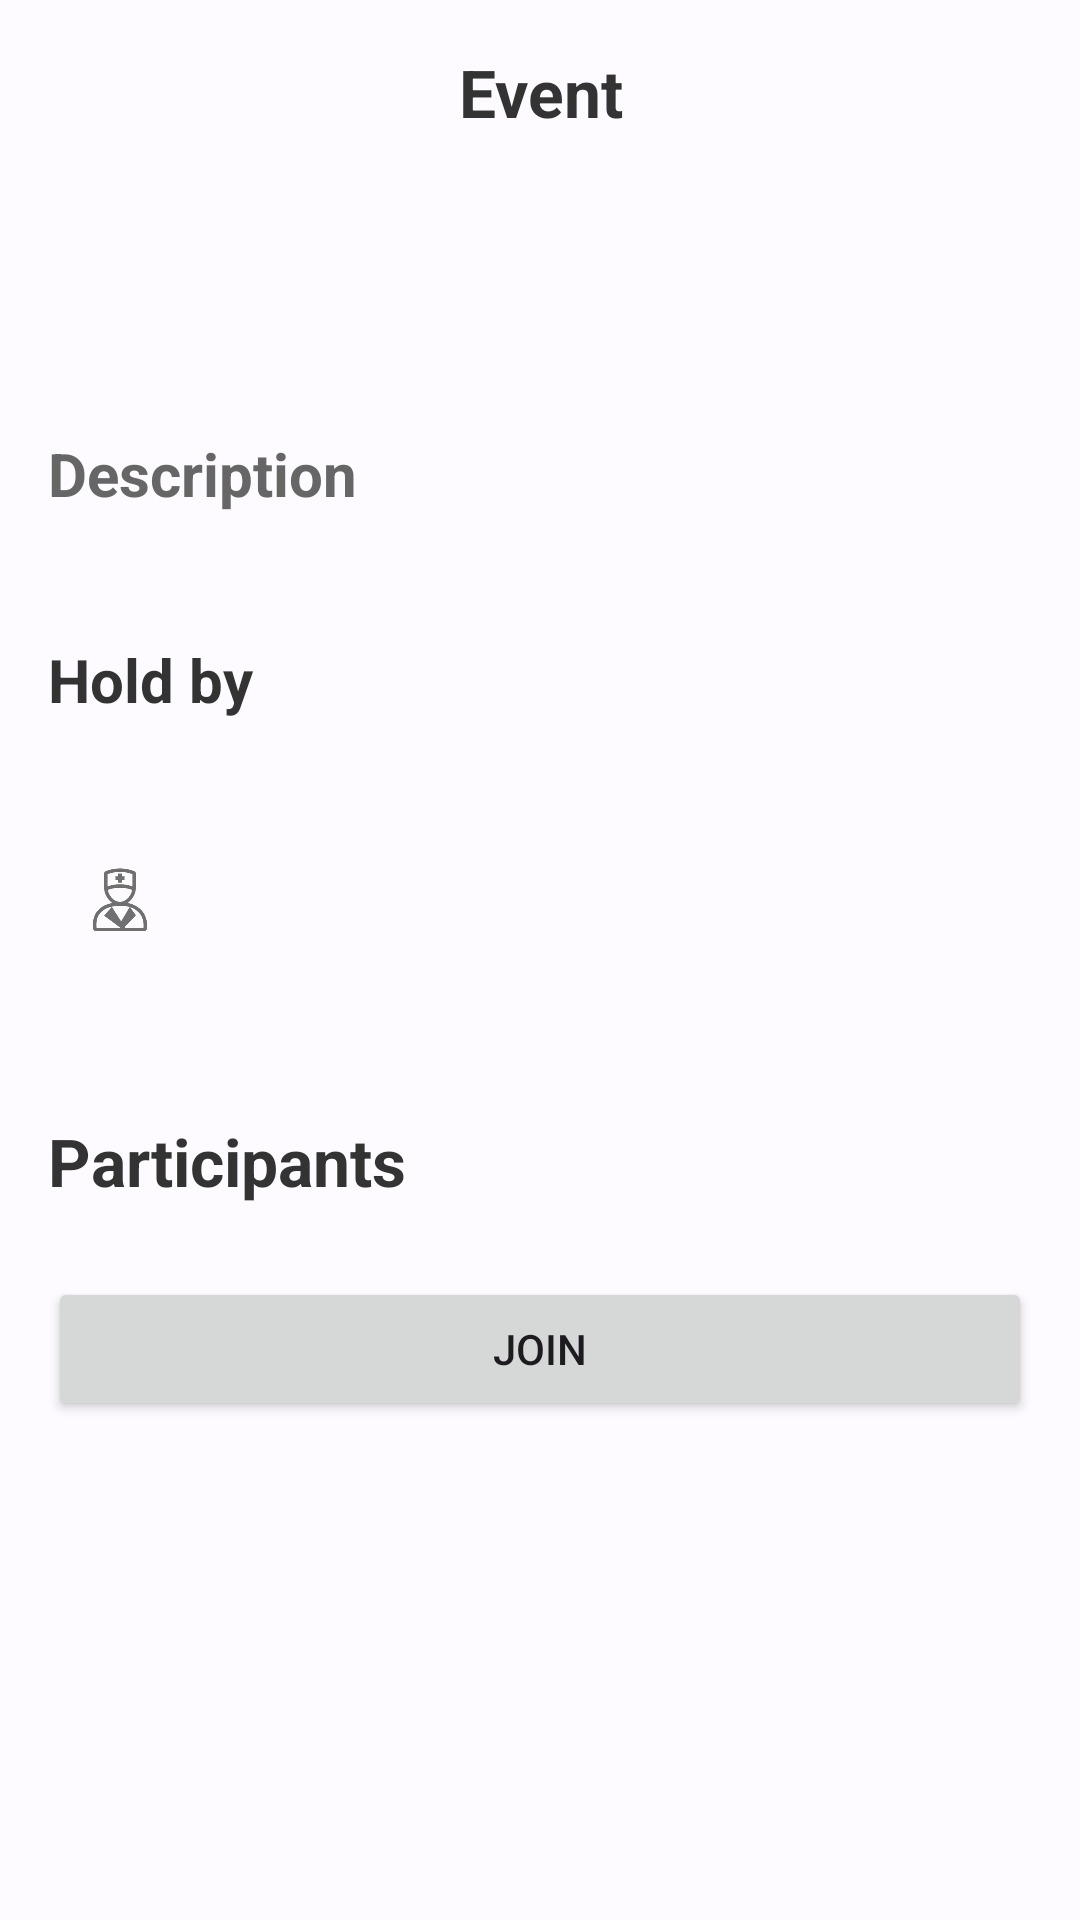

Icon bounding boxes for this 1080px x 1920px phone screenshot, format BBox(x1, y1, x2, y2):
doc: BBox(93, 868, 147, 931)
